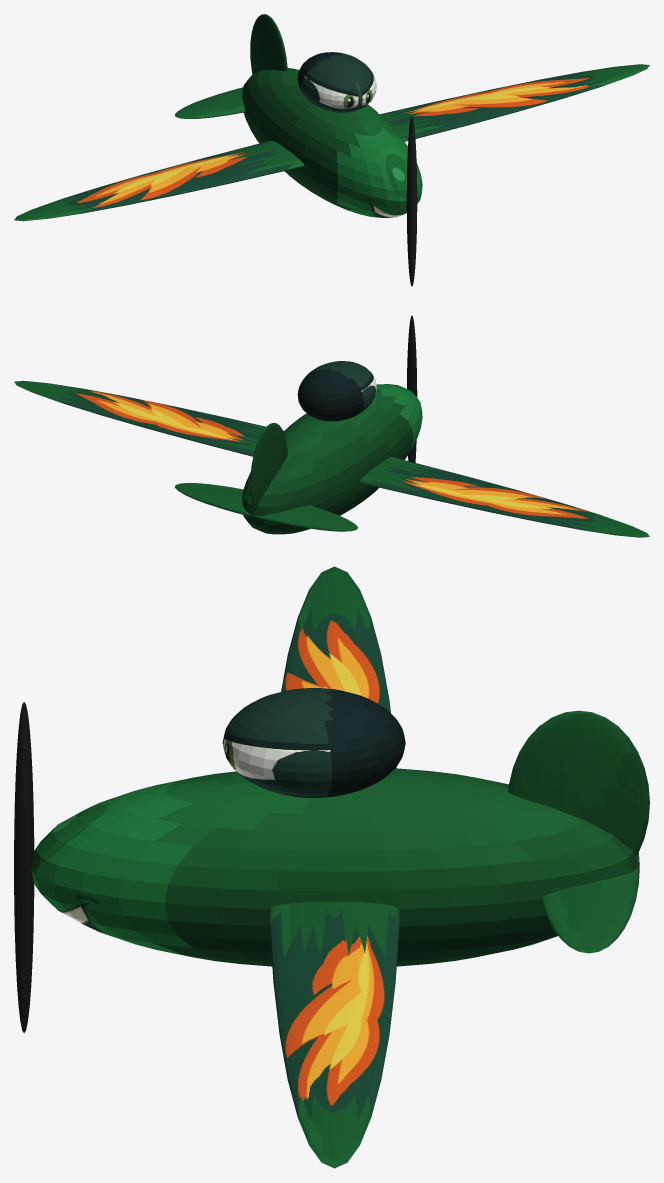
File: avion_verde.obj
3 renders of one model, top to bottom at view 1: azimuth 30°, elevation 25°; view 2: azimuth 150°, elevation 25°; view 3: azimuth 270°, elevation 25°, orthographic. The views are drawn at different scales.
Parts seen in each view (by area): view 1: Fuselaje, Alas, Cabina, Timon, Helice, Estabilizador; view 2: Alas, Fuselaje, Cabina, Estabilizador, Timon, Helice; view 3: Fuselaje, Alas, Cabina, Timon, Helice, Estabilizador.
Part boxes in pixels (bbox=[...]): Fuselaje: bbox=[242, 68, 422, 217]; Alas: bbox=[14, 64, 649, 221]; Cabina: bbox=[297, 52, 376, 112]; Timon: bbox=[250, 14, 287, 74]; Helice: bbox=[406, 116, 417, 286]; Estabilizador: bbox=[175, 87, 245, 118]; Alas: bbox=[14, 380, 649, 537]; Fuselaje: bbox=[242, 384, 422, 534]; Cabina: bbox=[297, 361, 376, 421]; Estabilizador: bbox=[175, 483, 357, 531]; Timon: bbox=[250, 423, 287, 510]; Helice: bbox=[407, 315, 417, 462]; Fuselaje: bbox=[31, 768, 639, 966]; Alas: bbox=[269, 566, 399, 1168]; Cabina: bbox=[222, 688, 405, 797]; Timon: bbox=[508, 710, 649, 856]; Helice: bbox=[14, 702, 34, 1032]; Estabilizador: bbox=[541, 852, 639, 953].
Size of the model in its own units: 14 by 3.65 by 6.25.
